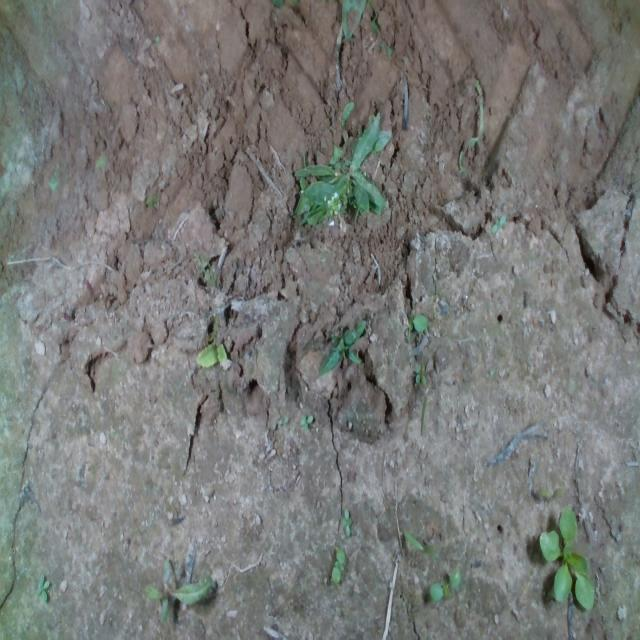weed: (429, 565, 461, 601), (330, 545, 346, 584), (34, 570, 50, 602), (338, 505, 352, 535), (299, 412, 313, 430), (276, 414, 288, 427)
